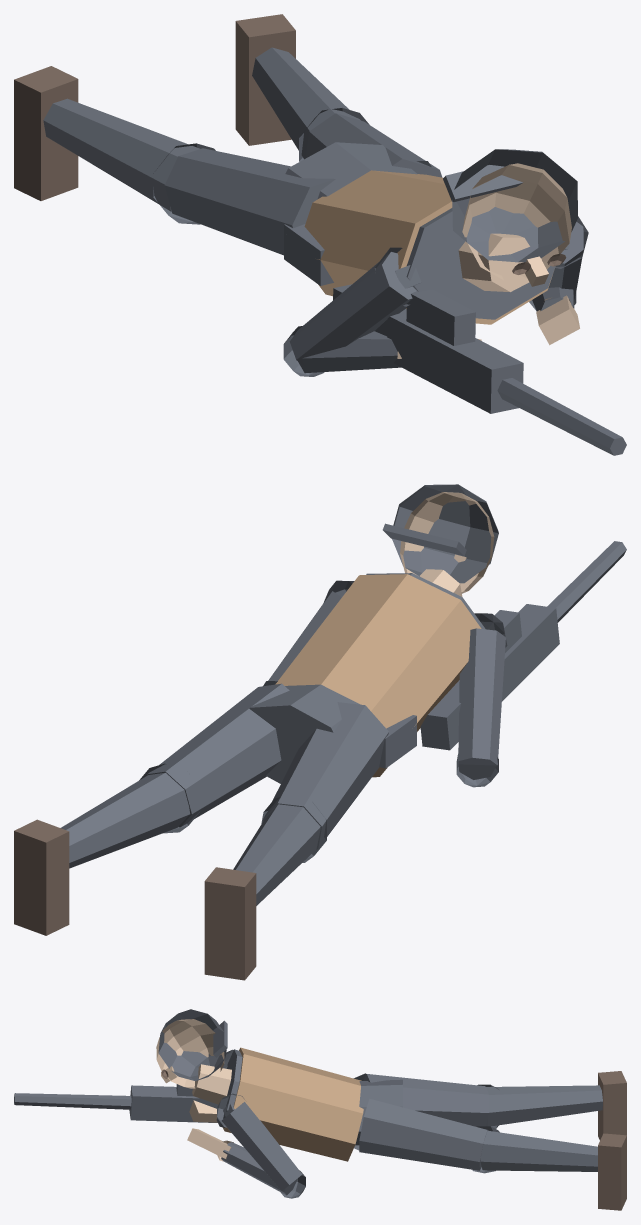
Rendered from low-poly-character-figures-soldier-prone-43943856__36369.glb.
The picture shows the model from 3 angles, top to bottom: view 1: azimuth 30°, elevation 25°; view 2: azimuth 150°, elevation 25°; view 3: azimuth 270°, elevation 25°; orthographic projection. The views are drawn at different scales.
Parts seen in each view (by area): view 1: soldier-prone; view 2: soldier-prone; view 3: soldier-prone.
Part boxes in pixels (left/top/right/bottom): soldier-prone: left=14, top=14, right=626, bottom=455; soldier-prone: left=14, top=484, right=626, bottom=980; soldier-prone: left=14, top=1009, right=626, bottom=1210.
Size of the model in its own units: 0.6745 by 0.6149 by 2.15.
